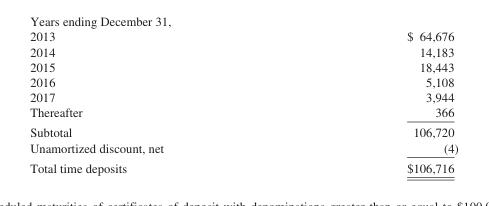table: (29, 29, 457, 174)
table column: (29, 29, 284, 174), (284, 29, 457, 174)
table row: (29, 104, 457, 122), (29, 139, 457, 157), (29, 122, 457, 139), (29, 157, 457, 174), (29, 58, 457, 74), (29, 43, 457, 58), (29, 74, 457, 89), (29, 89, 457, 104), (29, 29, 457, 43)
